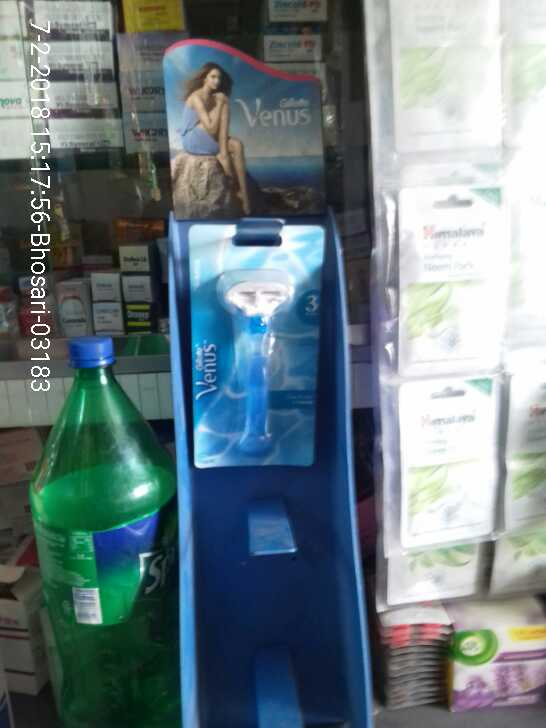venus: (184, 221, 317, 479)
